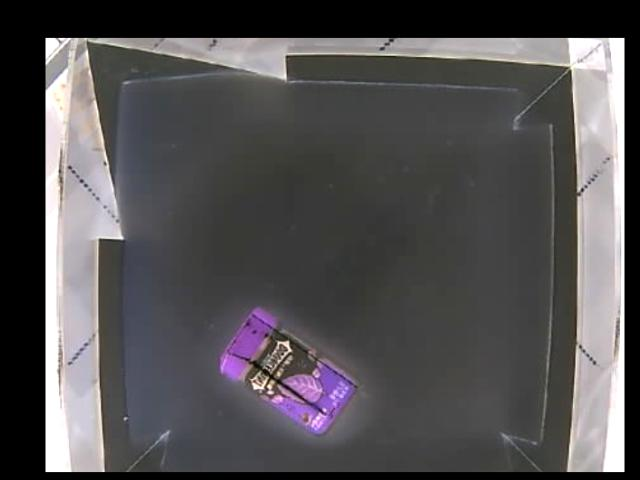Bottle: (218, 306, 361, 438)
